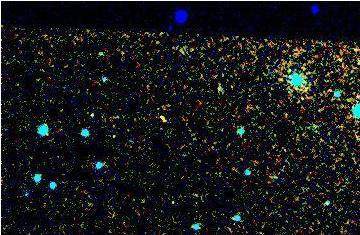star: (150, 105, 180, 135)
